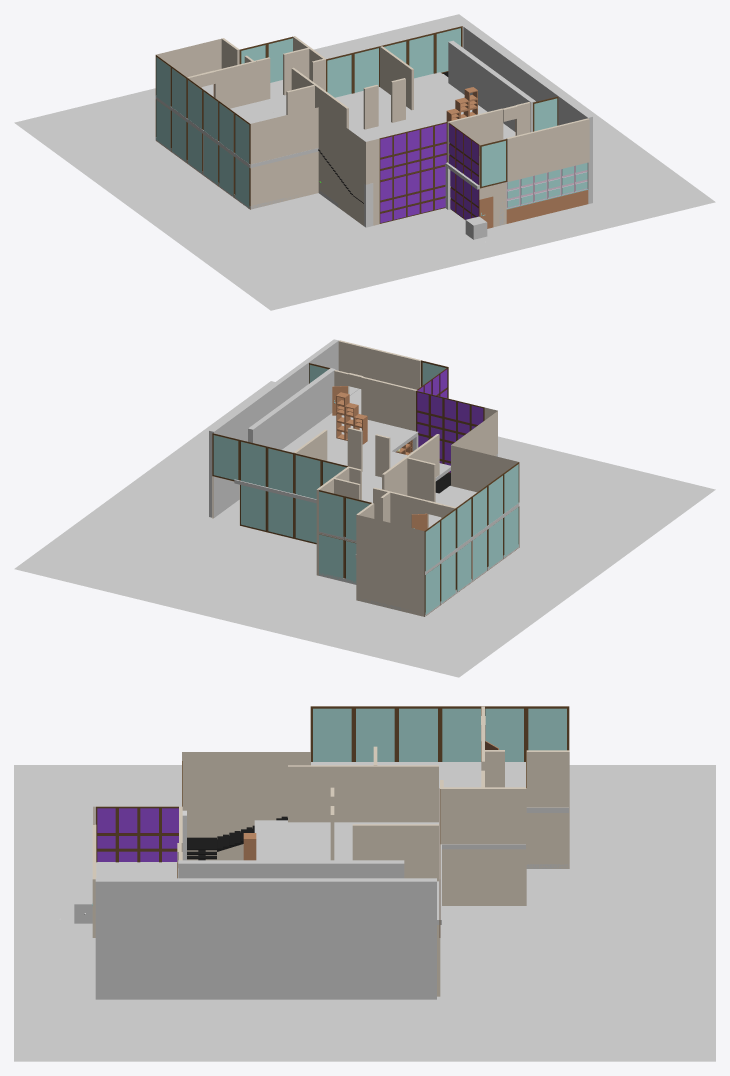
File: Whosthere.fbx
3 renders of one model, top to bottom at view 1: azimuth 30°, elevation 25°; view 2: azimuth 150°, elevation 25°; view 3: azimuth 270°, elevation 25°, orthographic. The views are drawn at different scales.
Parts seen in each view (by area): view 1: level1floor, Level2wallperp2, Level2wallperp1, Level2wallperp7, Level2.001, Level2wall07window, level1wallwindowleft, column.005, level1wallstair, column.001, level1wallperp1, Level2wallperp6 (+19 smaller); view 2: level1floor, Level2wallperp7, Level2wallperp2, column.005, Level2wall07window, level1wallwindowleft, Level2.001, column.001, level1wallwindowbig, Level2wallperp1, Level2wallperp13back, Level2wallperp6 (+10 smaller); view 3: level1floor, column.005, Level2wall07window, Level2wall04, Level2wall09.001, Level2.001, Level2wall03, level1wallstairparallel, Level2wall01, column.001, Level2wall02, Level2.003 (+5 smaller).
Part boxes in pixels (x1,y1,x2,y2): level1floor: [14, 14, 715, 310]; Level2wallperp2: [366, 108, 503, 184]; Level2wallperp1: [480, 118, 589, 188]; Level2wallperp7: [311, 26, 462, 97]; Level2.001: [335, 72, 564, 189]; Level2wall07window: [155, 55, 250, 166]; level1wallwindowleft: [155, 99, 250, 209]; column.005: [463, 25, 592, 203]; level1wallstair: [373, 165, 445, 225]; column.001: [448, 40, 535, 131]; level1wallperp1: [250, 151, 318, 209]; Level2wallperp6: [250, 107, 318, 164]; level1floor: [14, 381, 715, 677]; Level2wallperp7: [212, 433, 361, 500]; Level2wallperp2: [361, 376, 497, 442]; column.005: [209, 339, 338, 517]; Level2wall07window: [424, 462, 519, 573]; level1wallwindowleft: [424, 506, 519, 616]; Level2.001: [234, 389, 450, 503]; column.001: [248, 368, 335, 449]; level1wallwindowbig: [240, 485, 316, 544]; Level2wallperp1: [338, 340, 448, 398]; Level2wallperp13back: [358, 515, 424, 573]; Level2wallperp6: [451, 445, 518, 492]; level1floor: [14, 765, 715, 1061]; column.005: [95, 878, 436, 999]; Level2wall07window: [310, 706, 569, 761]; Level2wall04: [288, 765, 438, 822]; Level2wall09.001: [182, 752, 310, 810]; Level2.001: [96, 820, 441, 924]; Level2wall03: [440, 787, 526, 847]; level1wallstairparallel: [442, 847, 526, 905]; Level2wall01: [95, 806, 178, 862]; column.001: [178, 860, 404, 878]; Level2wall02: [352, 824, 438, 881]; Level2.003: [311, 762, 525, 849].
Size of what is drawn, in the model's own units: 6519 by 1236 by 6519.
